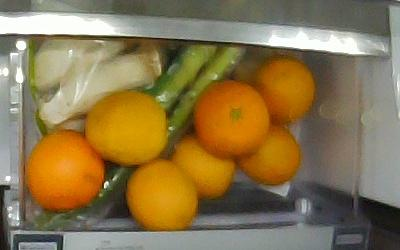orange: (26, 130, 104, 211), (85, 92, 168, 167), (195, 81, 271, 155), (126, 160, 197, 230), (170, 130, 236, 199), (238, 121, 301, 184), (258, 55, 316, 123)
